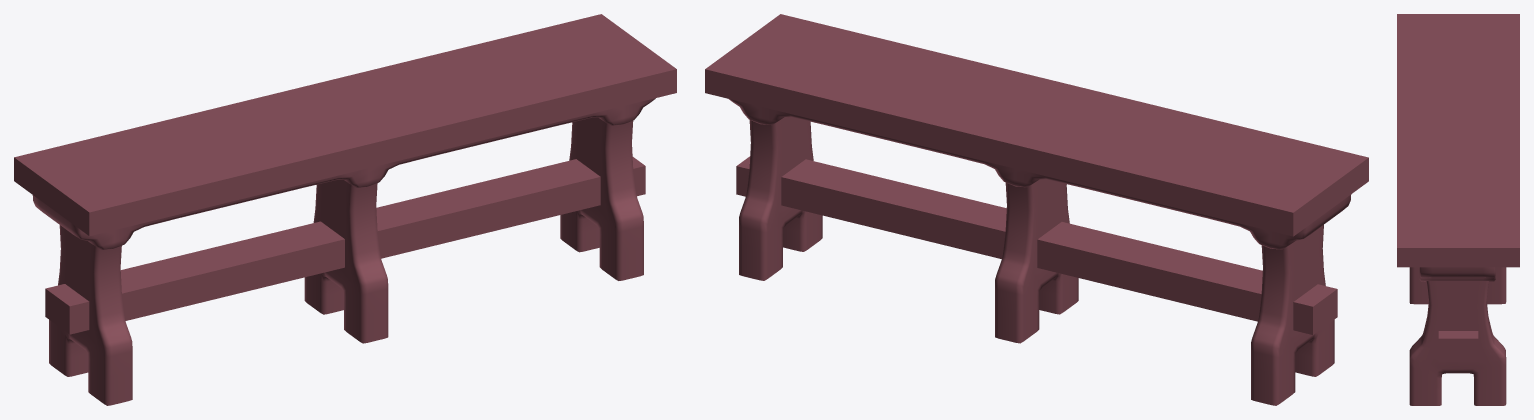
The model's file is BenchAsset.fbx.
3 views of the same model, side by side, from view 1: azimuth 30°, elevation 25°; view 2: azimuth 150°, elevation 25°; view 3: azimuth 270°, elevation 25° (orthographic). The views are drawn at different scales.
Visible parts, largest first — view 1: trn_Bench; view 2: trn_Bench; view 3: trn_Bench.
Part boxes in pixels (bbox=[...]): trn_Bench: bbox=[14, 14, 676, 405]; trn_Bench: bbox=[705, 14, 1368, 405]; trn_Bench: bbox=[1397, 14, 1519, 405].
Bounding box in the file's own units: 107 × 23.79 × 35.82.
